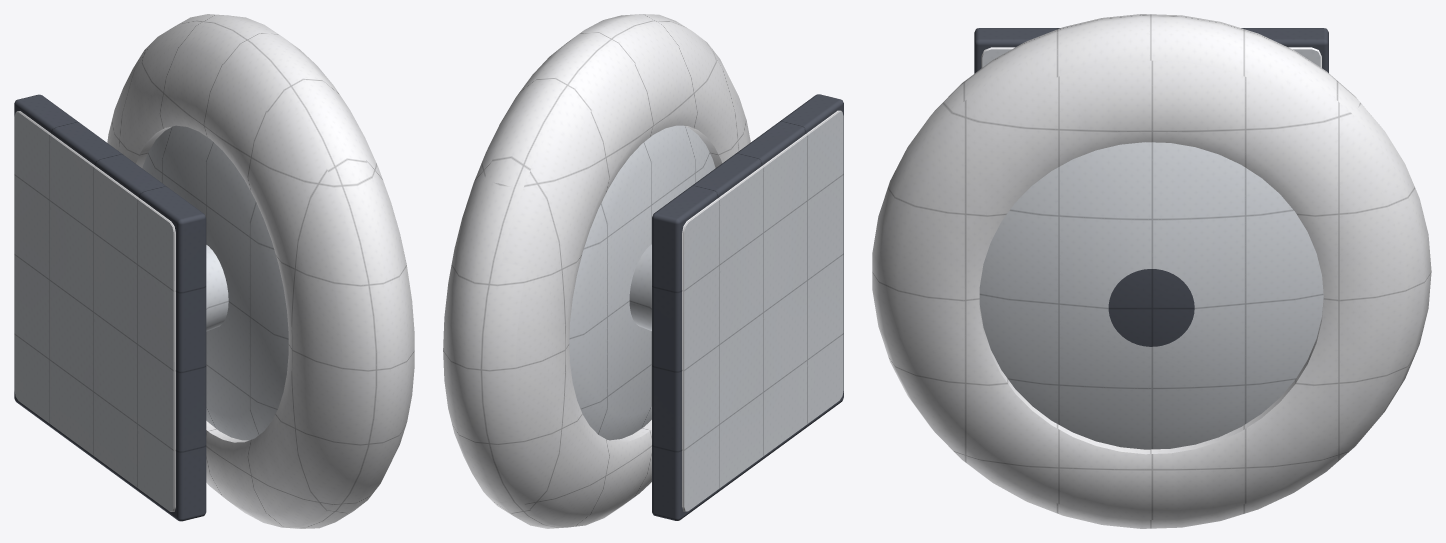
Rendered from R4M_WheelM_Side_Offroad.glb.
3 views of the same model, side by side, from view 1: azimuth 30°, elevation 25°; view 2: azimuth 150°, elevation 25°; view 3: azimuth 270°, elevation 25° (orthographic). The views are drawn at different scales.
Visible parts, largest first — view 1: R4M_WheelM_Side_Offroad_Rotor, R4M_WheelM_Side_Offroad_Mount; view 2: R4M_WheelM_Side_Offroad_Rotor, R4M_WheelM_Side_Offroad_Mount; view 3: R4M_WheelM_Side_Offroad_Rotor, R4M_WheelM_Side_Offroad_Mount.
Boxes of the visible parts, bbox=[...] form: R4M_WheelM_Side_Offroad_Rotor: bbox=[107, 14, 414, 528]; R4M_WheelM_Side_Offroad_Mount: bbox=[14, 94, 228, 521]; R4M_WheelM_Side_Offroad_Rotor: bbox=[443, 14, 750, 528]; R4M_WheelM_Side_Offroad_Mount: bbox=[629, 94, 843, 520]; R4M_WheelM_Side_Offroad_Rotor: bbox=[872, 14, 1431, 528]; R4M_WheelM_Side_Offroad_Mount: bbox=[974, 28, 1328, 73].
Size of the model in its own units: 0.402 by 0.7795 by 0.779.
Materials: 4 (3 with a texture image).
